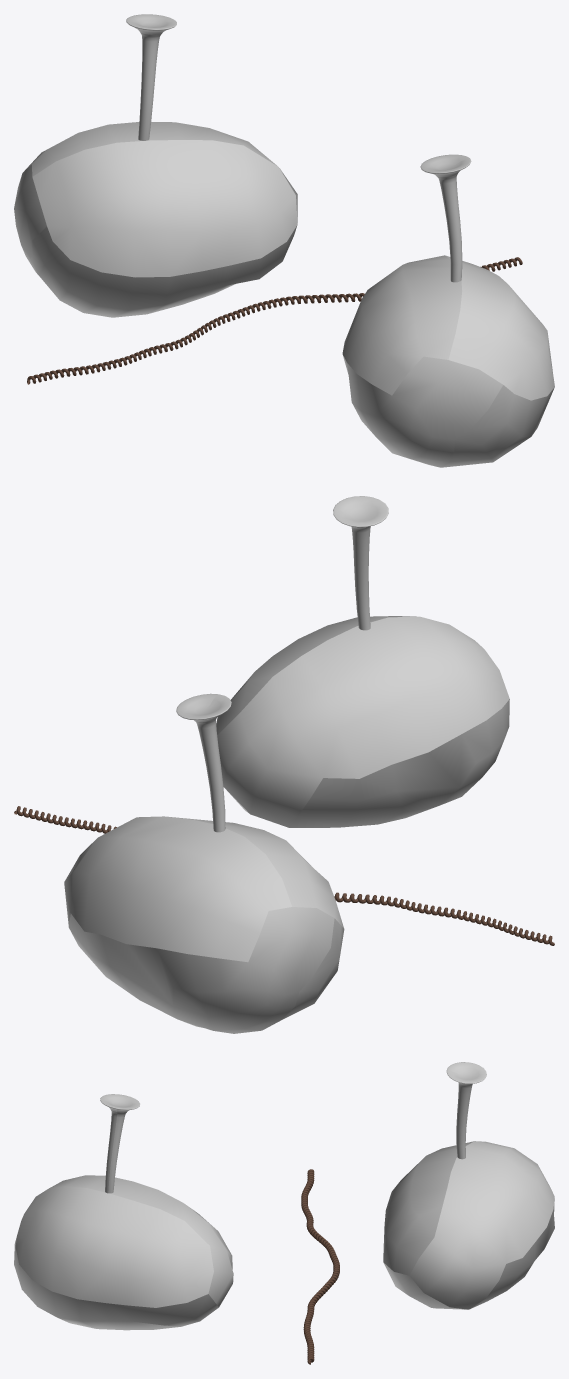
The model's file is GeneratoreCorrente.fbx.
The picture shows the model from 3 angles, top to bottom: view 1: azimuth 30°, elevation 25°; view 2: azimuth 150°, elevation 25°; view 3: azimuth 270°, elevation 25°; orthographic projection. The views are drawn at different scales.
Visible parts, largest first — view 1: potatoe03_defaultMaterial_0.001, potatoe03_defaultMaterial_0, Circle, Nail, Nail.001; view 2: potatoe03_defaultMaterial_0, potatoe03_defaultMaterial_0.001, Nail, Nail.001, Circle; view 3: potatoe03_defaultMaterial_0, potatoe03_defaultMaterial_0.001, Nail.001, Circle, Nail.
Boxes of the visible parts, box(x1,y1,x2,y2) form: potatoe03_defaultMaterial_0.001: box(14, 122, 297, 317); potatoe03_defaultMaterial_0: box(342, 255, 554, 467); Circle: box(27, 257, 522, 384); Nail: box(420, 154, 471, 282); Nail.001: box(126, 14, 176, 140); potatoe03_defaultMaterial_0: box(216, 616, 509, 827); potatoe03_defaultMaterial_0.001: box(64, 816, 344, 1033); Nail: box(333, 496, 388, 630); Nail.001: box(176, 693, 231, 832); Circle: box(14, 806, 554, 945); potatoe03_defaultMaterial_0: box(14, 1175, 233, 1330); potatoe03_defaultMaterial_0.001: box(383, 1141, 554, 1309); Nail.001: box(446, 1062, 486, 1159); Circle: box(301, 1169, 339, 1364); Nail: box(100, 1094, 139, 1193).
Size of the model in its own units: 85.31 by 45.94 by 102.
